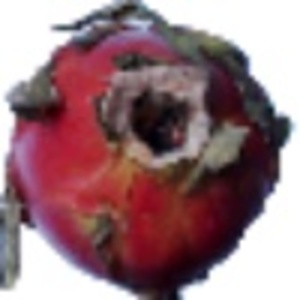pitaia: (1, 1, 298, 300)
